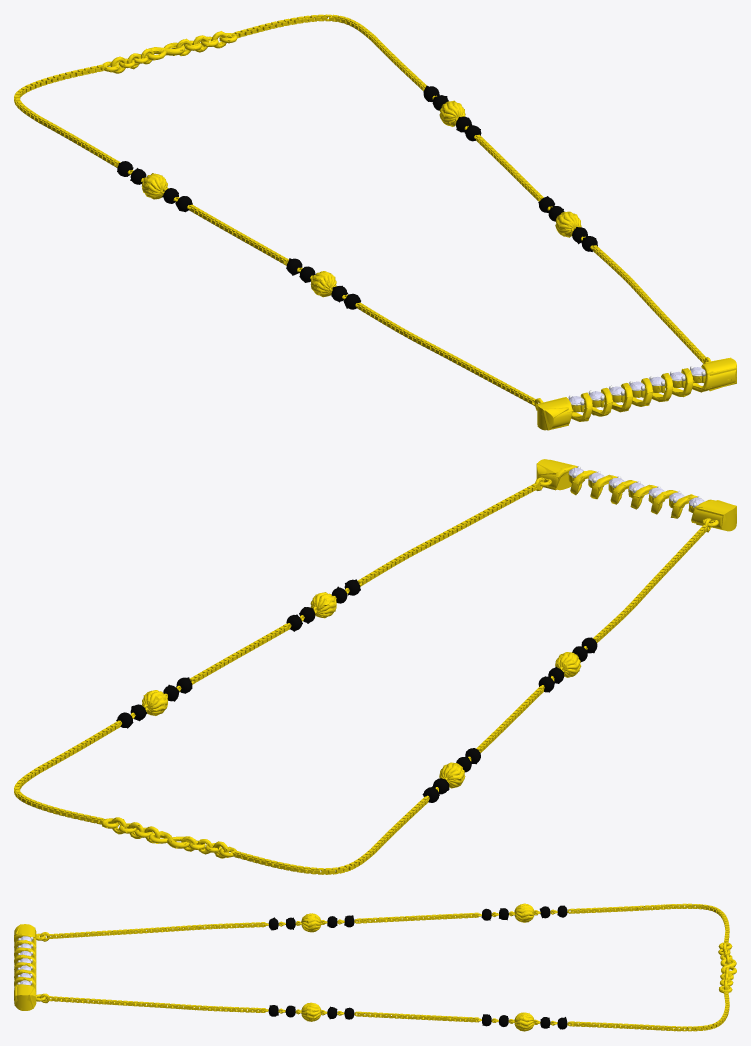
The picture shows the model from 3 angles, top to bottom: view 1: azimuth 30°, elevation 25°; view 2: azimuth 150°, elevation 25°; view 3: azimuth 270°, elevation 25°; orthographic projection. The views are drawn at different scales.
Visible parts, largest first — view 1: highPolyMesh, lowPolyMesh; view 2: highPolyMesh, lowPolyMesh; view 3: highPolyMesh, lowPolyMesh.
Part boxes in pixels (x1=…): highPolyMesh: x1=14, y1=14, x2=736, y2=430; lowPolyMesh: x1=15, y1=15, x2=736, y2=430; highPolyMesh: x1=14, y1=459, x2=736, y2=874; lowPolyMesh: x1=14, y1=459, x2=736, y2=874; highPolyMesh: x1=14, y1=903, x2=736, y2=1031; lowPolyMesh: x1=14, y1=903, x2=736, y2=1031.
Bounding box in the file's own units: 0.0517 × 0.0034 × 0.127.
